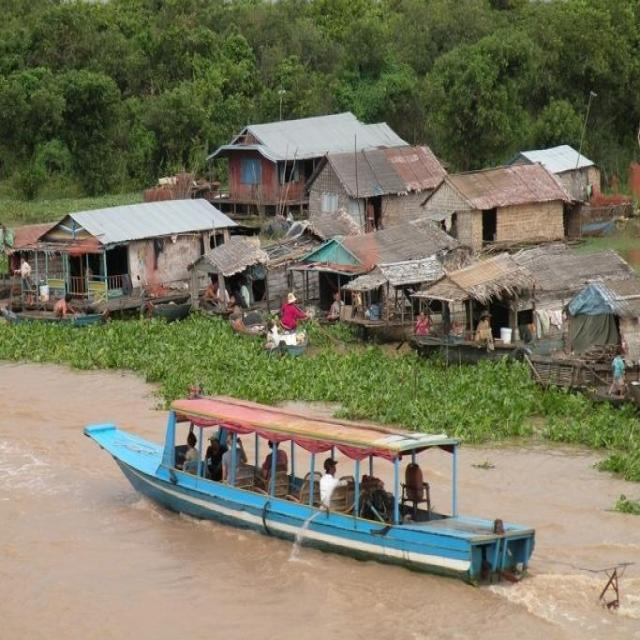Hyacinth: (4, 326, 532, 428), (586, 408, 640, 480), (464, 452, 501, 474), (613, 497, 640, 517)
boat: (78, 403, 536, 587), (0, 300, 101, 330), (259, 303, 309, 356)
